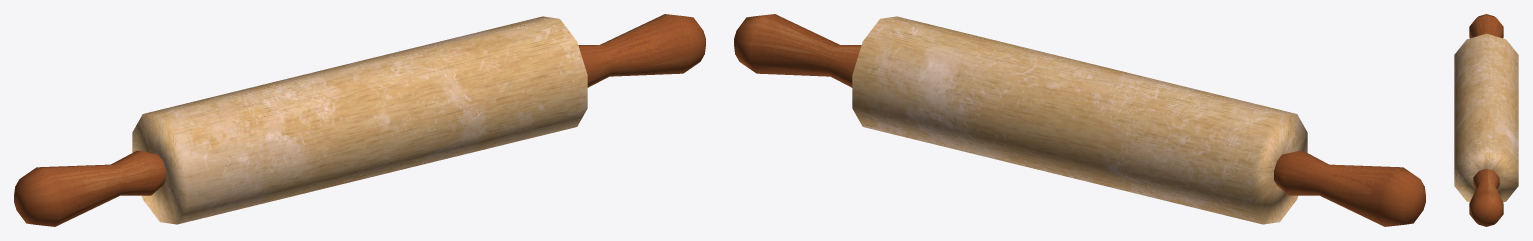
The model's file is RollingPin_Light_Flour.fbx.
3 renders of one model, left to right at view 1: azimuth 30°, elevation 25°; view 2: azimuth 150°, elevation 25°; view 3: azimuth 270°, elevation 25°, orthographic. The views are drawn at different scales.
Visible parts, largest first — view 1: RollingPin_Light_Flour; view 2: RollingPin_Light_Flour; view 3: RollingPin_Light_Flour.
Boxes of the visible parts, box(x1,y1,x2,y2) form: RollingPin_Light_Flour: box(14, 14, 705, 226); RollingPin_Light_Flour: box(734, 14, 1425, 226); RollingPin_Light_Flour: box(1454, 14, 1518, 226).
Bounding box in the file's own units: 165 × 24.52 × 23.32.
